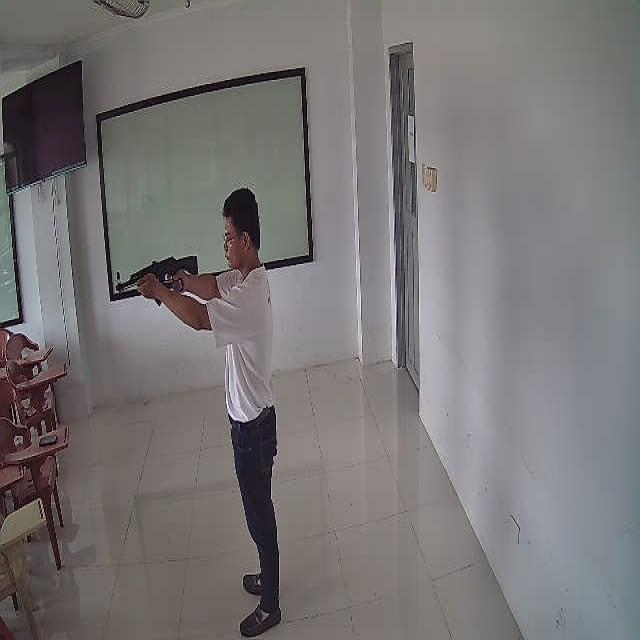rifle: (116, 256, 198, 307)
